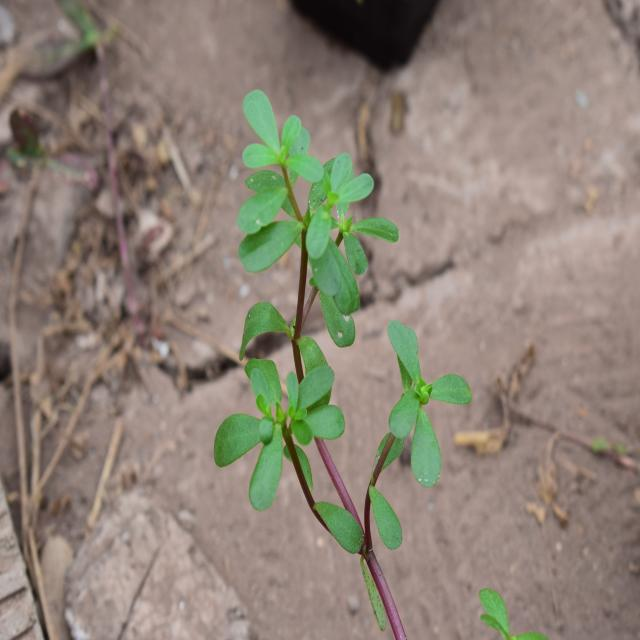purslane: (189, 82, 475, 560)
